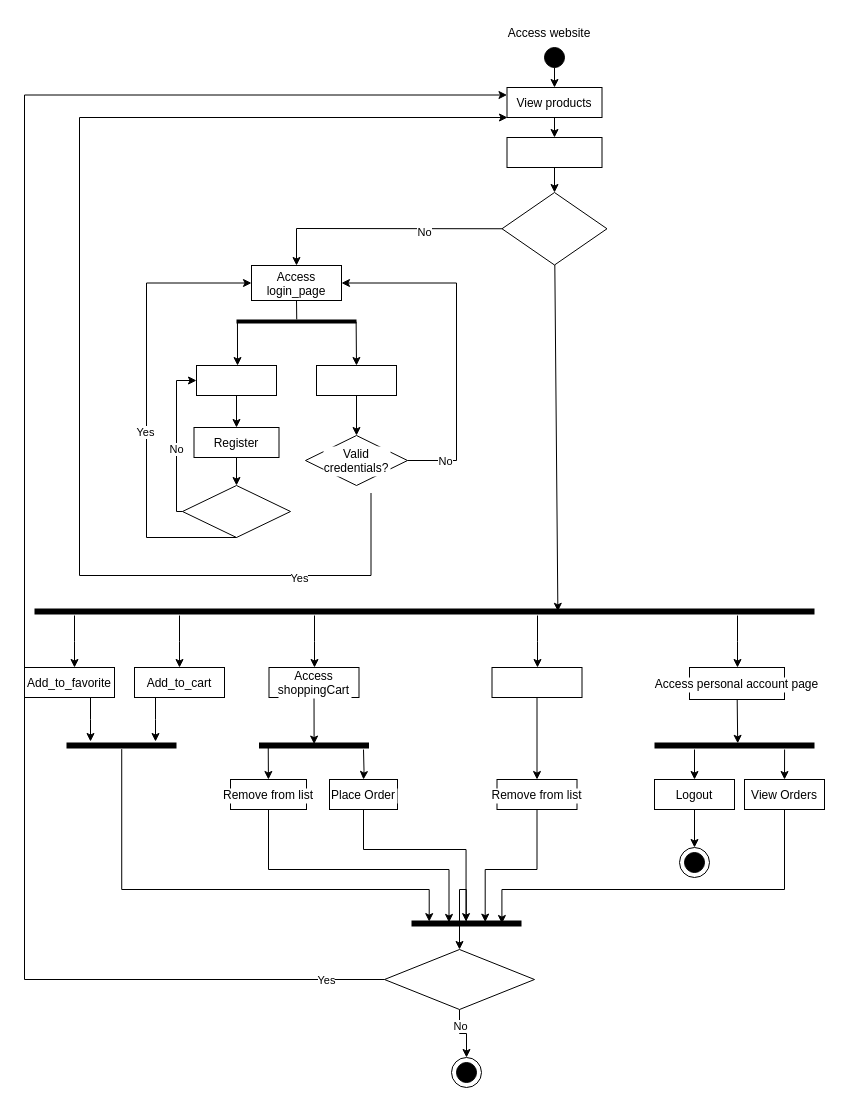
Image size: 842x1105. Some labels were removed from this diagram. Each missing label, with the box of its shape:
Access favorite list: (491, 666, 582, 698)
Access register_page: (196, 364, 276, 396)
Authenticated?: (501, 192, 607, 265)
Continue shopping: (384, 948, 534, 1010)
Filter products: (506, 136, 602, 168)
Login: (316, 364, 396, 396)
Valid registration?: (182, 484, 290, 538)
